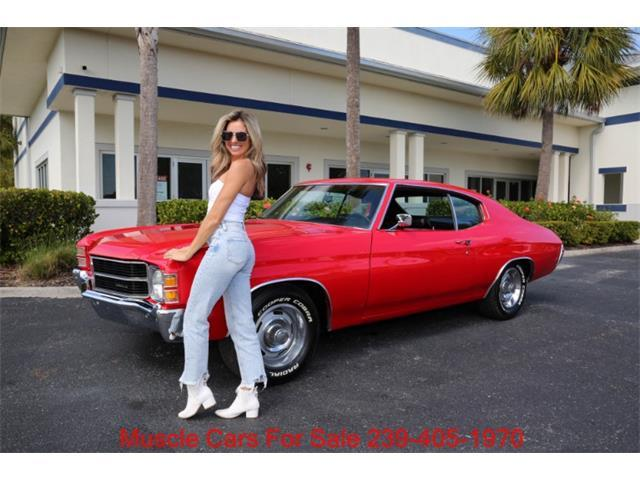chevelle-1972: (247, 176, 565, 383), (80, 215, 200, 325)
